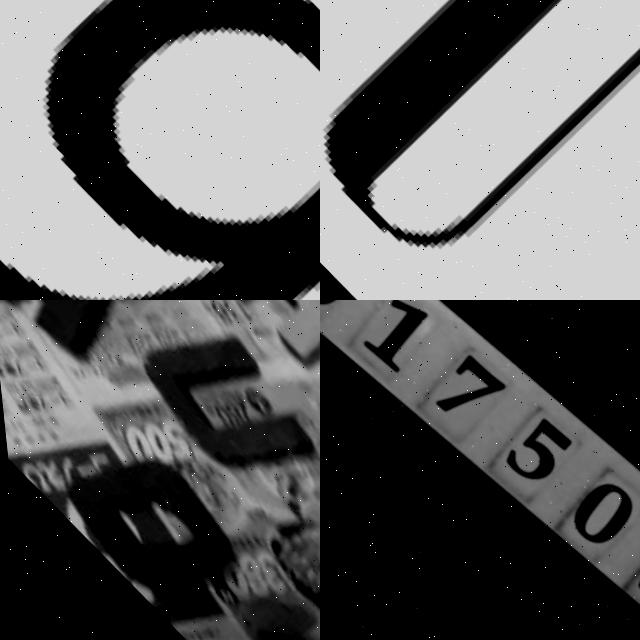0: (534, 446, 640, 559)
1: (332, 300, 451, 380)
5: (475, 391, 585, 495), (605, 514, 640, 619)
7: (400, 326, 522, 443)
9: (0, 0, 320, 300)
A: (0, 300, 137, 364)
O: (43, 422, 251, 625)
R: (193, 300, 320, 368)
U: (320, 0, 640, 300), (114, 300, 320, 510)
